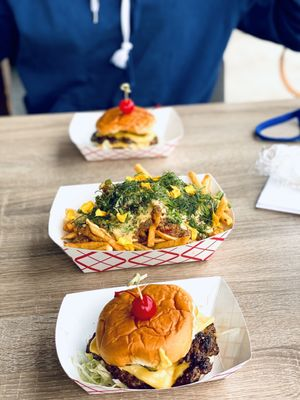curry: (86, 168, 234, 249)
soup: (86, 283, 219, 389)
